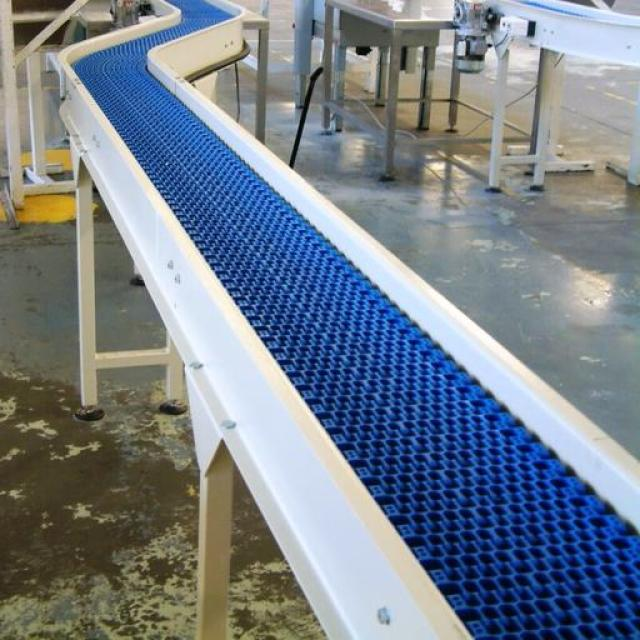conveyor: (60, 0, 640, 640)
